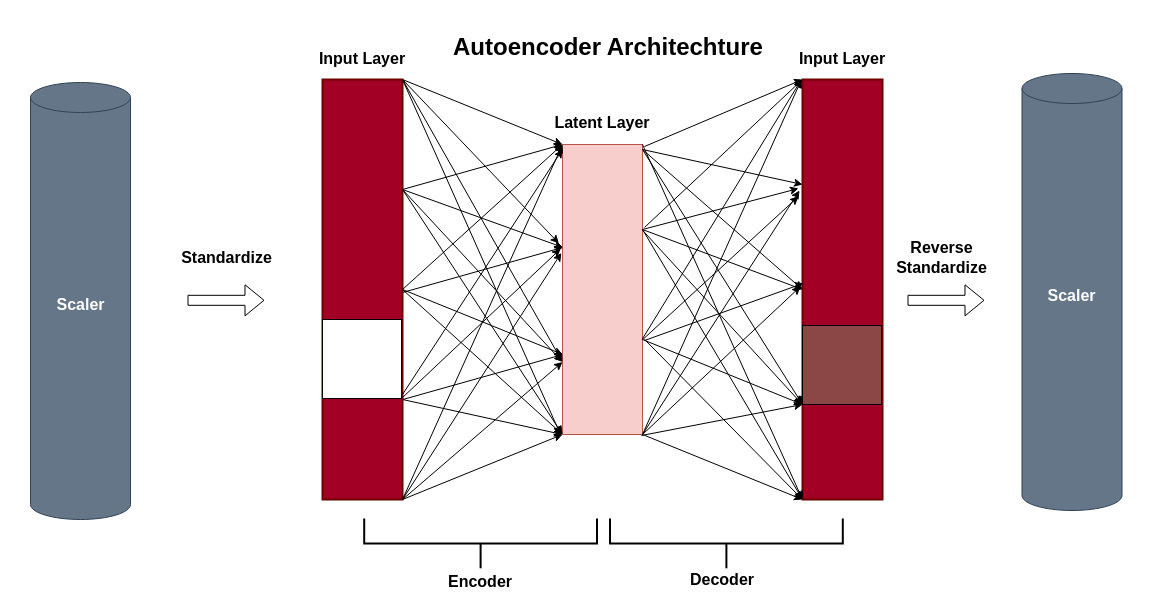
The diagram is 1153 pixels wide and 613 high, and some of its shapes have lost their labels. Here are the shapes that lost their labels. From the top down, the centre of each, then its label:
At pixel 362 358: "Missing".
At pixel 842 364: "Imputed".
